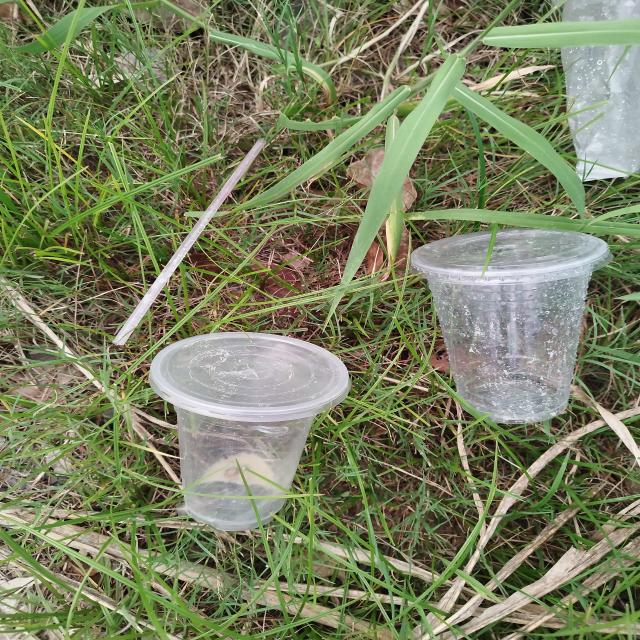bag: (560, 0, 640, 182)
drinking straw: (112, 138, 268, 346)
plastic glass: (148, 331, 352, 532), (409, 228, 616, 425)
